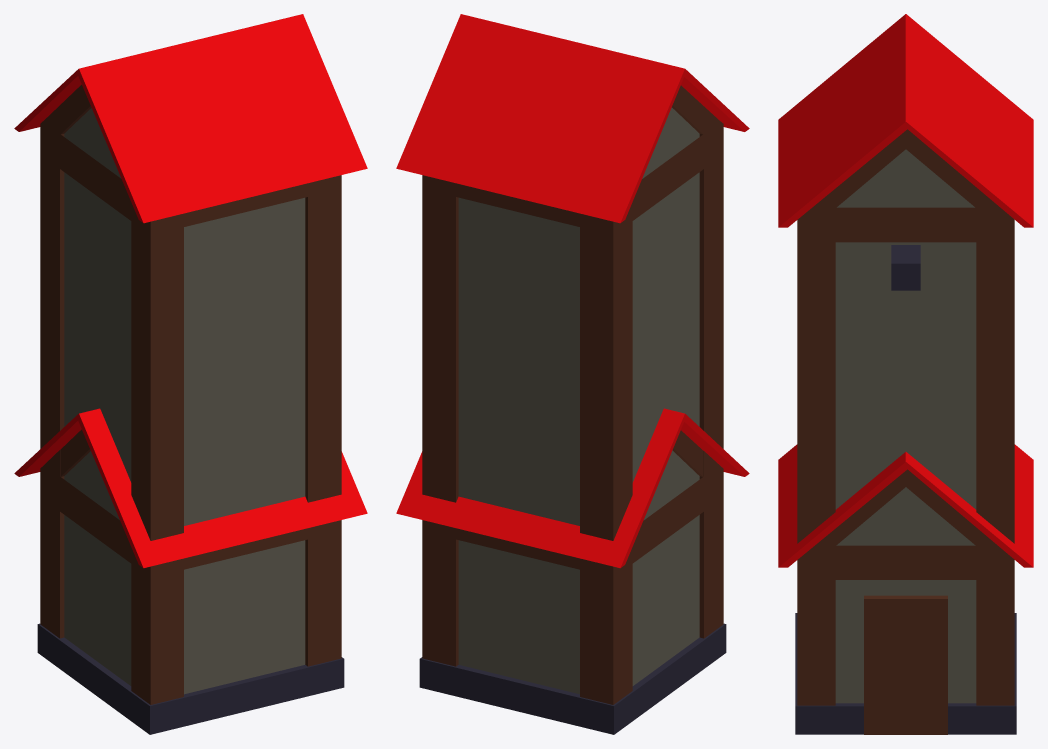
File: moulin.fbx
The picture shows the model from 3 angles, left to right: view 1: azimuth 30°, elevation 25°; view 2: azimuth 150°, elevation 25°; view 3: azimuth 270°, elevation 25°; orthographic projection.
Visible parts, largest first — view 1: Cube.001, Cube.006, Cube.007, Cube.002, Cube.004, Cube.003; view 2: Cube.001, Cube.006, Cube.007, Cube.002, Cube.004, Cube.003; view 3: Cube.001, Cube.006, Cube.007, Cube.002, Cube.005, Cube.004, Cube.003, Cube.
Boxes of the visible parts, box(x1,y1,x2,y2) form: Cube.001: box(64, 108, 305, 694); Cube.006: box(40, 84, 341, 540); Cube.007: box(14, 14, 367, 223); Cube.002: box(40, 429, 341, 704); Cube.004: box(14, 408, 367, 568); Cube.003: box(37, 623, 344, 734); Cube.001: box(458, 107, 699, 694); Cube.006: box(422, 85, 723, 540); Cube.007: box(396, 14, 749, 223); Cube.002: box(422, 430, 723, 704); Cube.004: box(396, 408, 749, 568); Cube.003: box(419, 623, 726, 734); Cube.001: box(835, 149, 976, 703); Cube.006: box(797, 129, 1014, 546); Cube.007: box(778, 14, 1033, 227); Cube.002: box(797, 469, 1014, 705); Cube.005: box(864, 595, 947, 734); Cube.004: box(778, 444, 1033, 567); Cube.003: box(795, 613, 1016, 734); Cube: box(891, 245, 920, 290).
Bounding box in the file's own units: 266 × 661 × 247.
